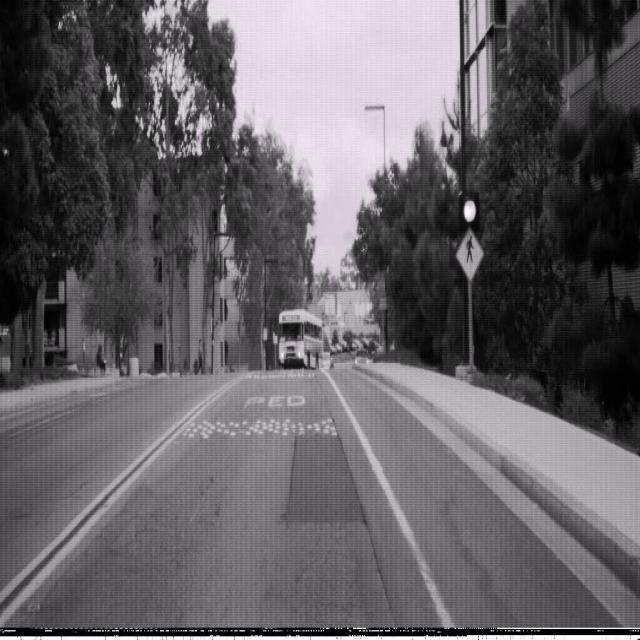pedestrianCrossing: (456, 226, 484, 282)
